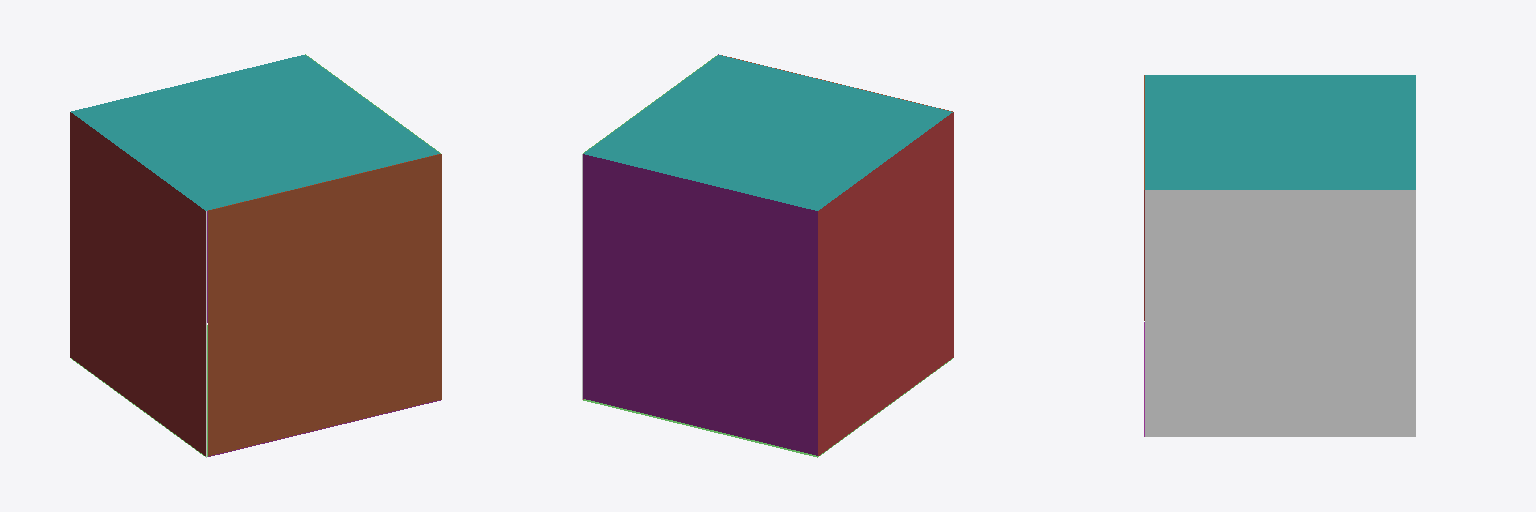
3 renders of one model, left to right at view 1: azimuth 30°, elevation 25°; view 2: azimuth 150°, elevation 25°; view 3: azimuth 270°, elevation 25°, orthographic.
Visible parts, largest first — view 1: Cube_Cube.001; view 2: Cube_Cube.001; view 3: Cube_Cube.001.
Part boxes in pixels (bbox=[...]): Cube_Cube.001: bbox=[70, 54, 441, 457]; Cube_Cube.001: bbox=[582, 54, 953, 457]; Cube_Cube.001: bbox=[1144, 75, 1415, 436].
Size of the model in its own units: 2 by 2 by 2.
1 materials, 1 textured.